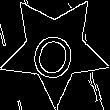O_N: (28, 19, 81, 80)
